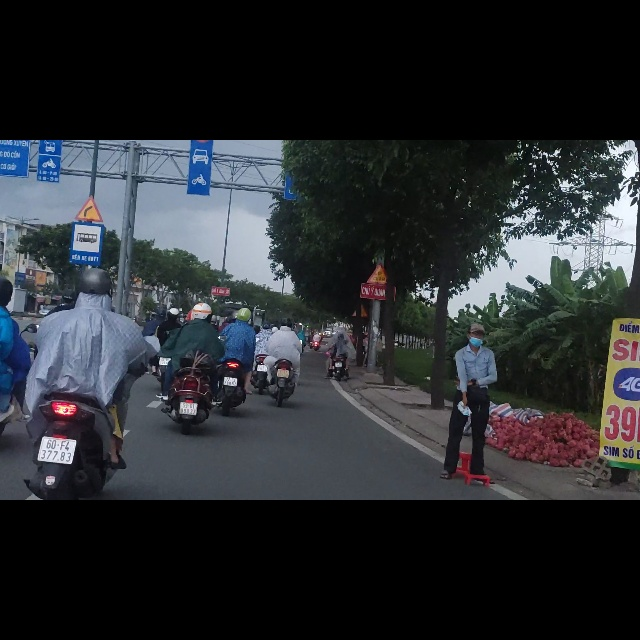bien_nguy_hiem: (71, 146, 103, 223), (74, 99, 103, 146), (366, 219, 391, 258)
